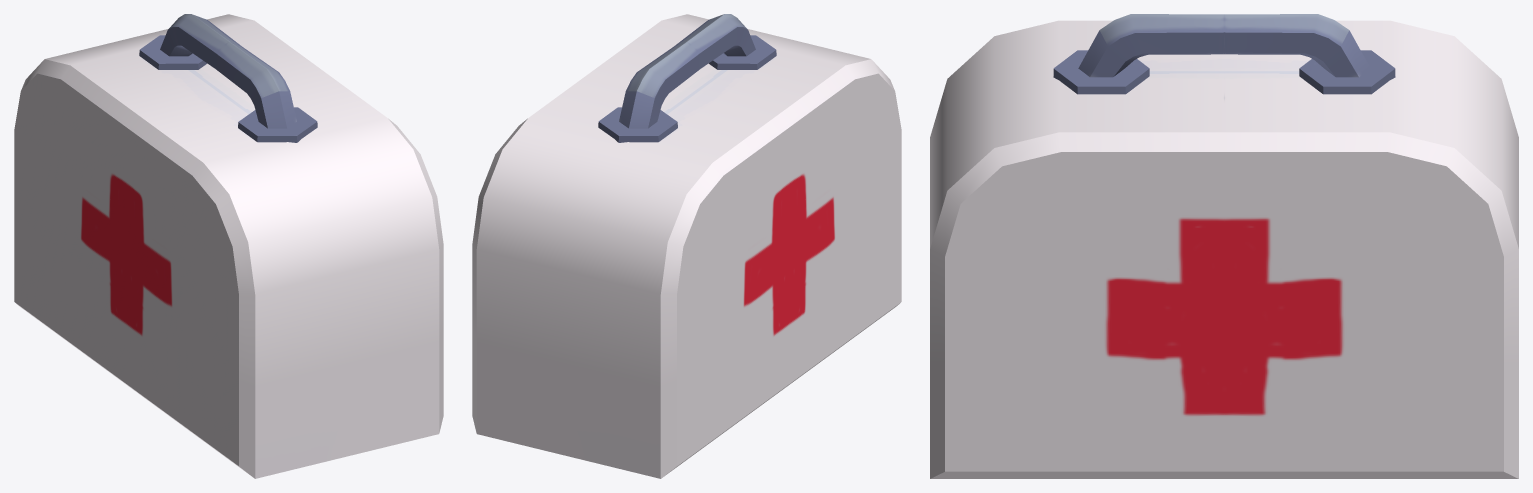
Rendered from HealtPack.fbx.
3 views of the same model, side by side, from view 1: azimuth 30°, elevation 25°; view 2: azimuth 150°, elevation 25°; view 3: azimuth 270°, elevation 25° (orthographic). The views are drawn at different scales.
Parts seen in each view (by area): view 1: HealtPAck; view 2: HealtPAck; view 3: HealtPAck.
Part boxes in pixels (box(x1,y1,x2,y2)): HealtPAck: box(14, 14, 443, 478); HealtPAck: box(472, 14, 901, 478); HealtPAck: box(930, 14, 1518, 478).
Bounding box in the file's own units: 0.9998 × 1.53 × 2.
Materials: 1 (1 with a texture image).
